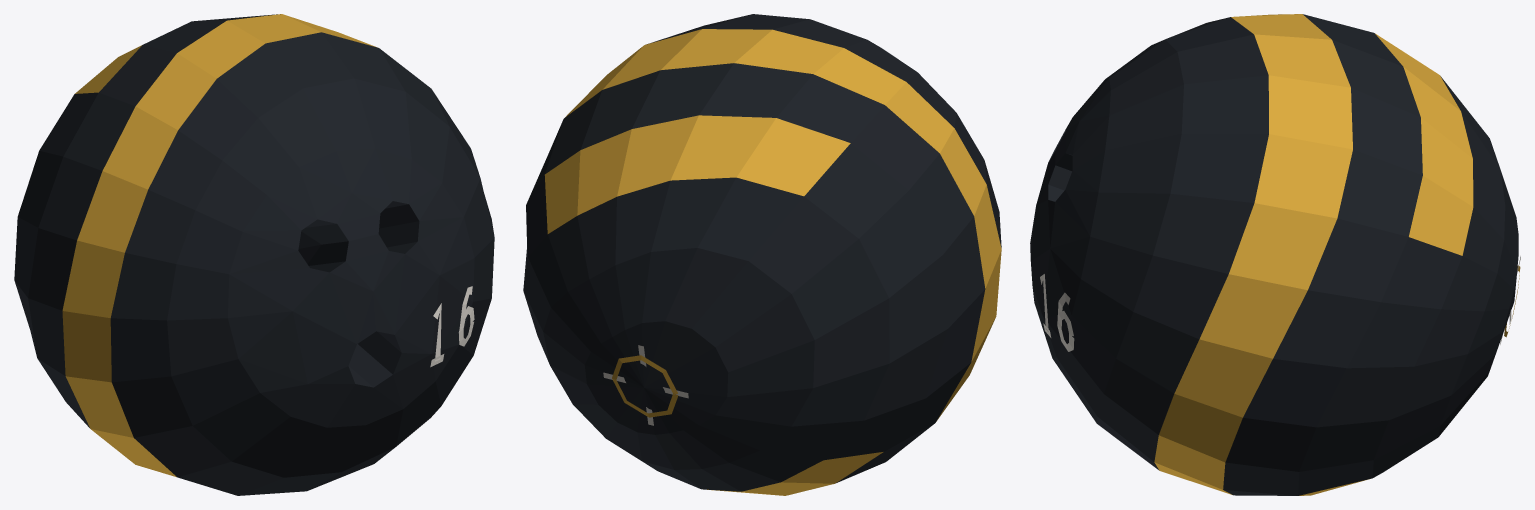
The model's file is cozy_bowling_ball_16lb.glb.
The picture shows the model from 3 angles, left to right: view 1: azimuth 30°, elevation 25°; view 2: azimuth 150°, elevation 25°; view 3: azimuth 270°, elevation 25°; orthographic projection.
Visible parts, largest first — view 1: Ball_16lb_Mesh; view 2: Ball_16lb_Mesh; view 3: Ball_16lb_Mesh.
Boxes of the visible parts, x1,y1,x2,y2 form: Ball_16lb_Mesh: (14, 14, 494, 495); Ball_16lb_Mesh: (523, 14, 1001, 495); Ball_16lb_Mesh: (1030, 14, 1520, 495).
Size of the model in its own units: 0.2161 by 0.2161 by 0.2173.
